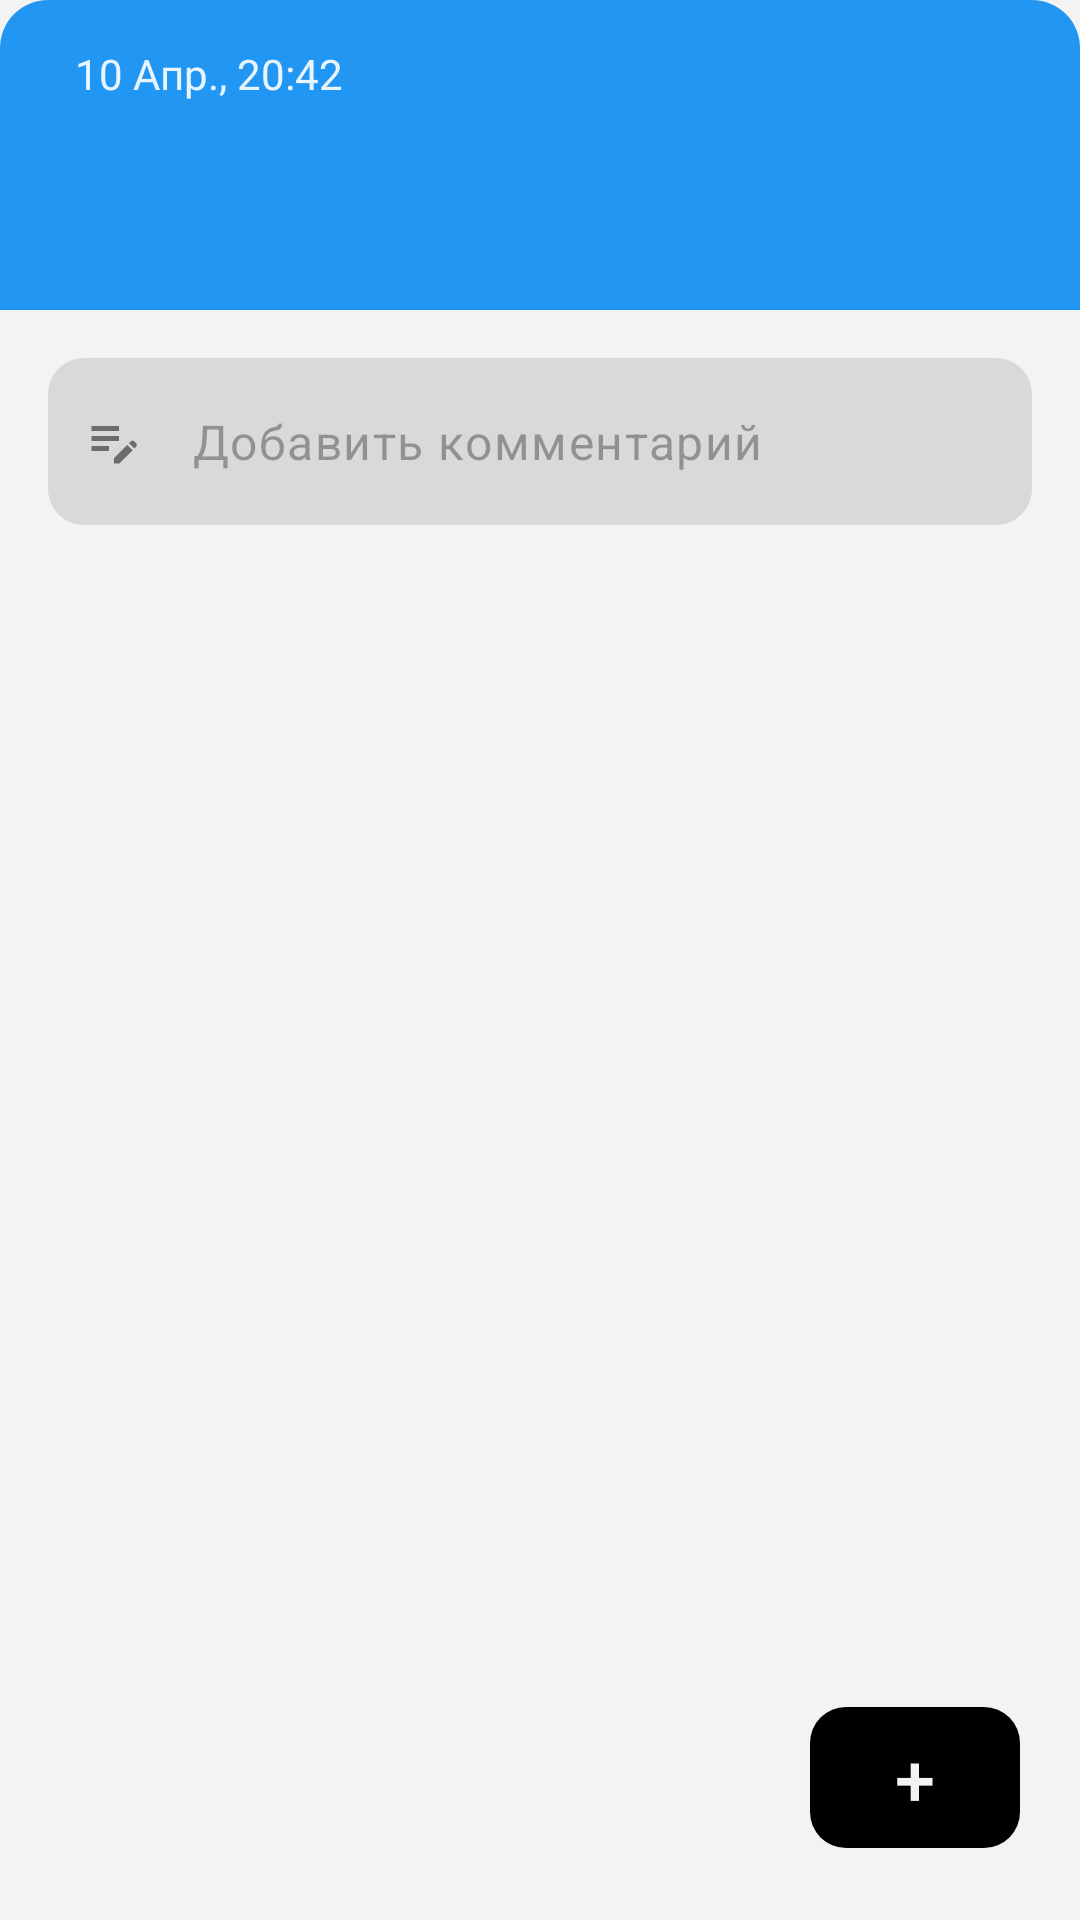

Icon bounding boxes for this 1080 × 1920 phone screenshot, format [left=x1, top=y1, right=x2, bottom=y2]:
note: [left=91, top=426, right=137, bottom=464]
